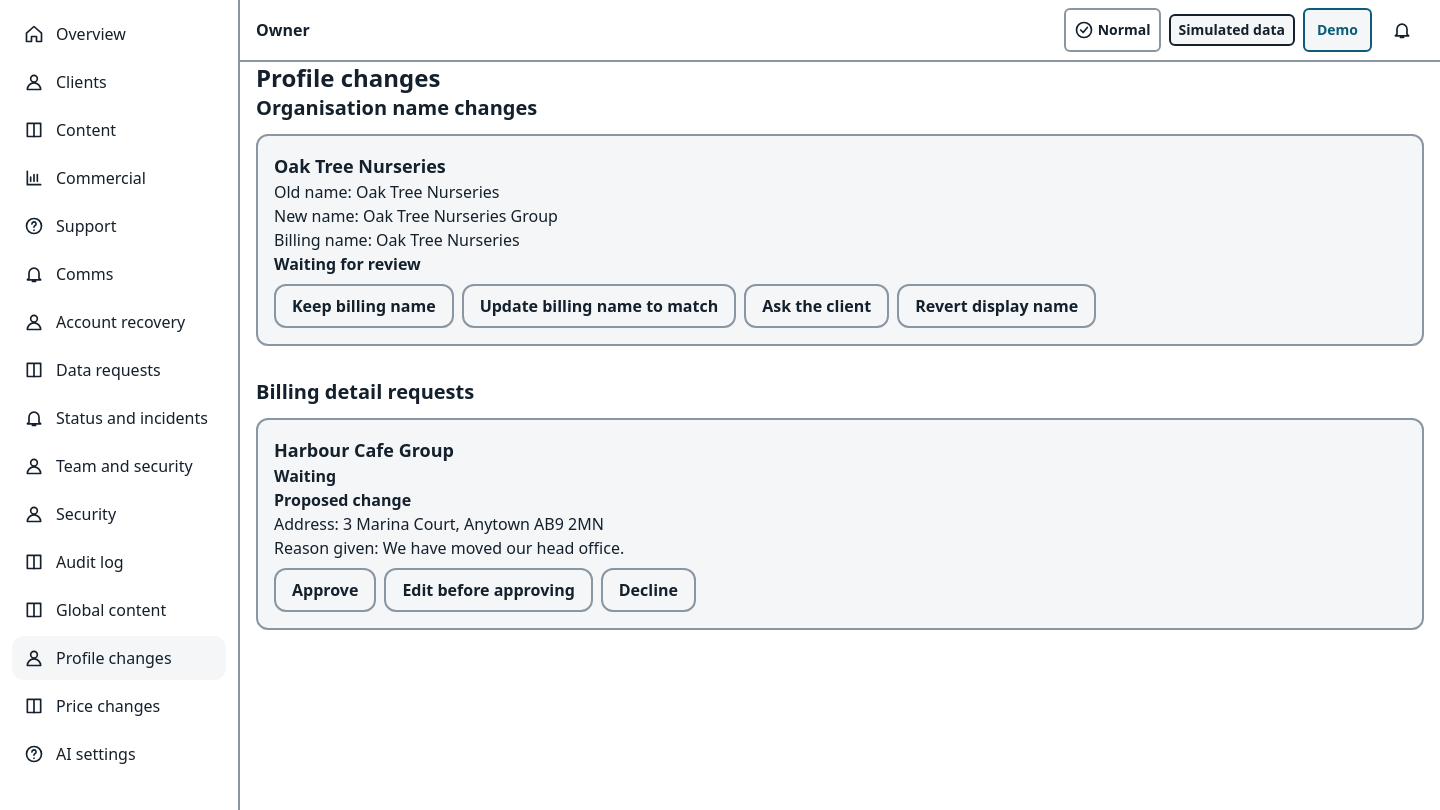
P24 Profile changes: name changes › Update billing name to match changes the billing name and confirms
This screenshot has width=1440, height=810.
Expected: the heading "Profile changes" is shown, [256,62,440,94]
Click the button "Update billing name to match".
click(599, 306)  # box [462,284,736,328]
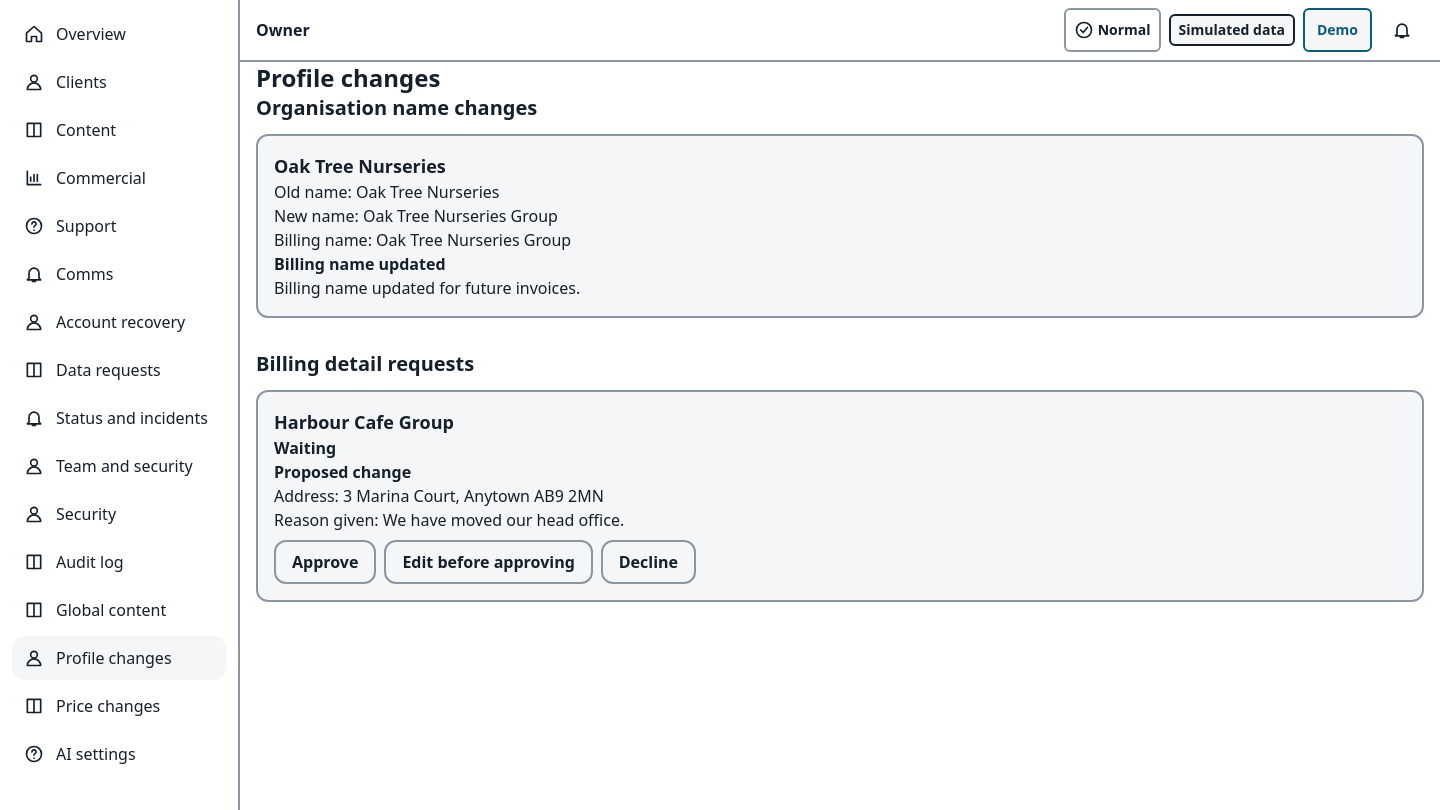
Expected: the message "Billing name updated for future invoices." is shown, [274,277,580,299]
Expected: the list item with test id "pc-row" shows "Billing name updated", [274,253,446,275]
